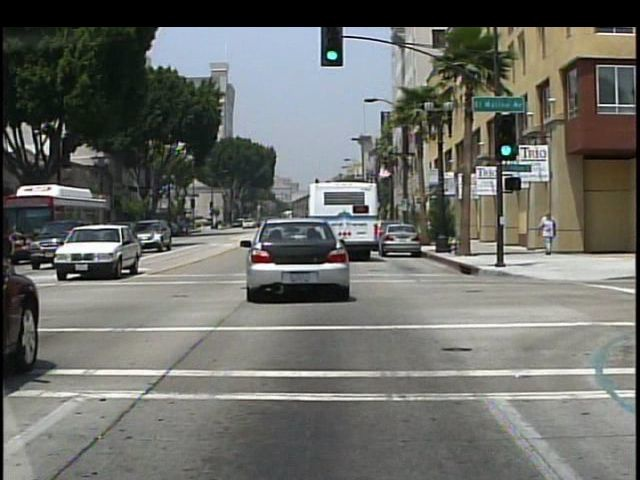person: (539, 210, 558, 256)
